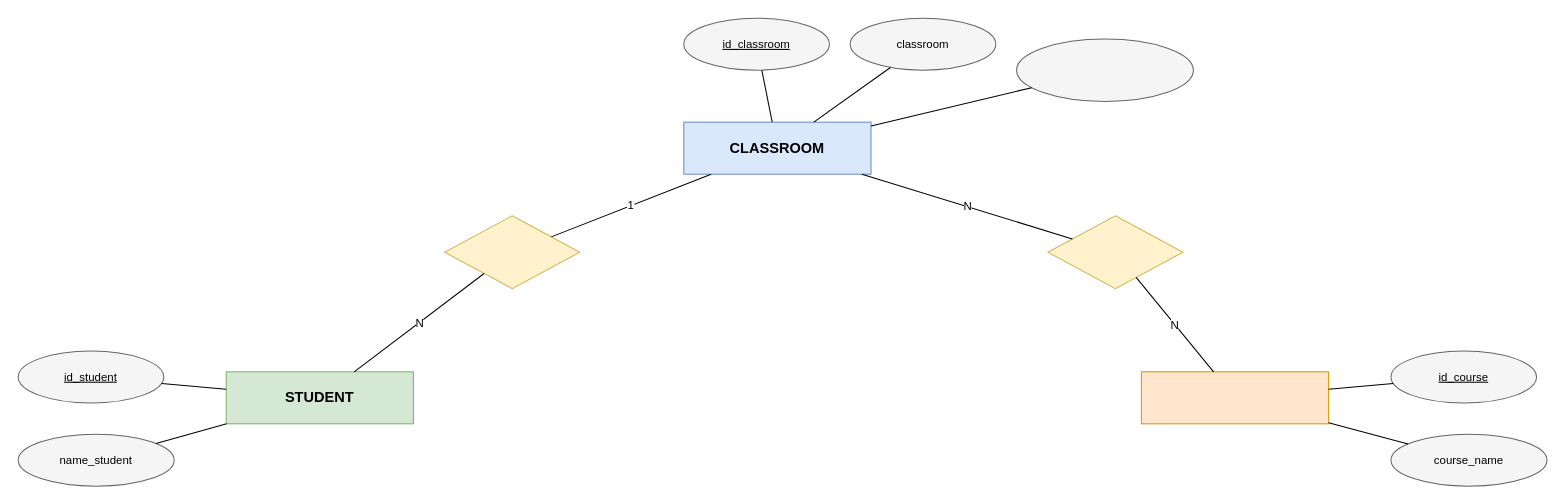
This 1565x504 diagram has some shape labels left out. Each missing label, with the centre of its shape:
"classroom_description" goes at point (1104, 69).
"COURSE" goes at point (1234, 397).
"IMPARTE" goes at point (1115, 252).
"TIENE" goes at point (512, 252).
